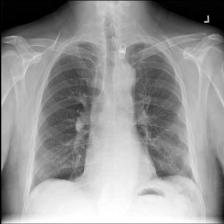normal: (25, 36, 200, 201)
